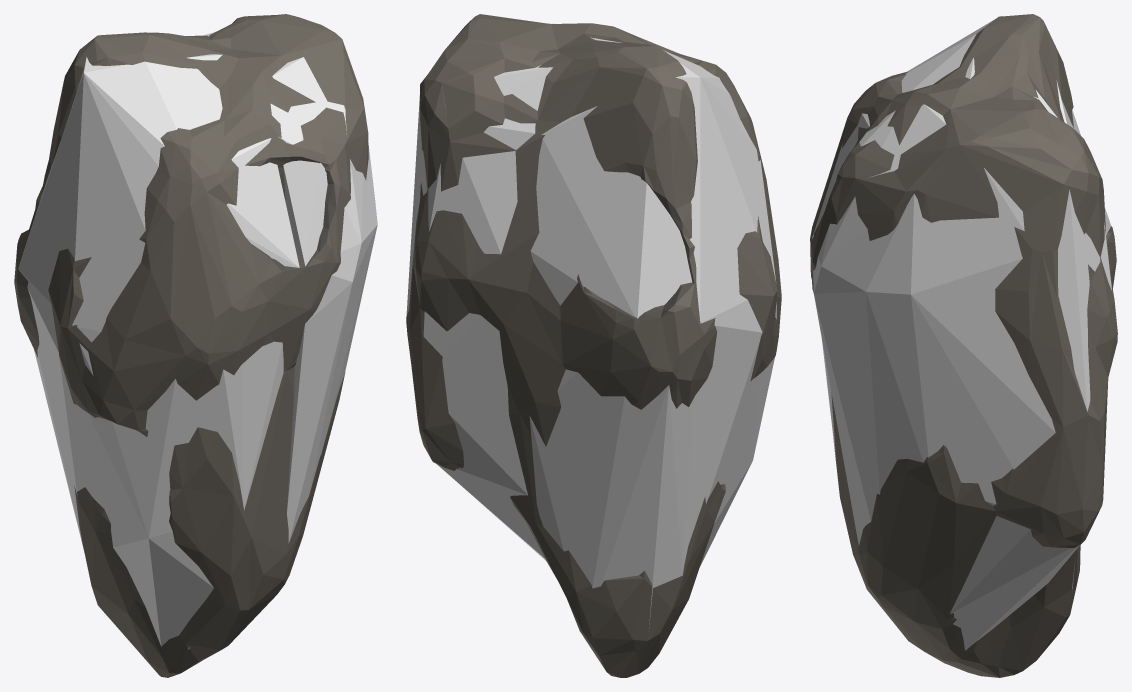
Rendered from SM_Env_Asteroid_Holes_04.fbx.
The picture shows the model from 3 angles, left to right: view 1: azimuth 30°, elevation 25°; view 2: azimuth 150°, elevation 25°; view 3: azimuth 270°, elevation 25°; orthographic projection. The views are drawn at different scales.
Parts seen in each view (by area): view 1: SM_Env_Asteroid_Holes_04_LOD0, SM_Env_Asteroid_Holes_04_ConvexHulls; view 2: SM_Env_Asteroid_Holes_04_ConvexHulls, SM_Env_Asteroid_Holes_04_LOD0; view 3: SM_Env_Asteroid_Holes_04_LOD0, SM_Env_Asteroid_Holes_04_ConvexHulls.
Boxes of the visible parts, bbox=[...] form: SM_Env_Asteroid_Holes_04_LOD0: bbox=[14, 14, 368, 677]; SM_Env_Asteroid_Holes_04_ConvexHulls: bbox=[18, 31, 377, 649]; SM_Env_Asteroid_Holes_04_ConvexHulls: bbox=[406, 23, 776, 631]; SM_Env_Asteroid_Holes_04_LOD0: bbox=[406, 14, 781, 677]; SM_Env_Asteroid_Holes_04_LOD0: bbox=[810, 14, 1117, 677]; SM_Env_Asteroid_Holes_04_ConvexHulls: bbox=[812, 16, 1111, 650].
Size of the model in its own units: 526 by 614 by 1212.
Materials: 1 (1 with a texture image).
